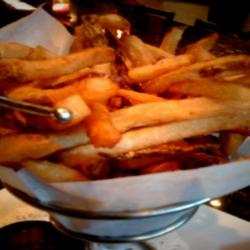fries: (4, 32, 250, 191)
